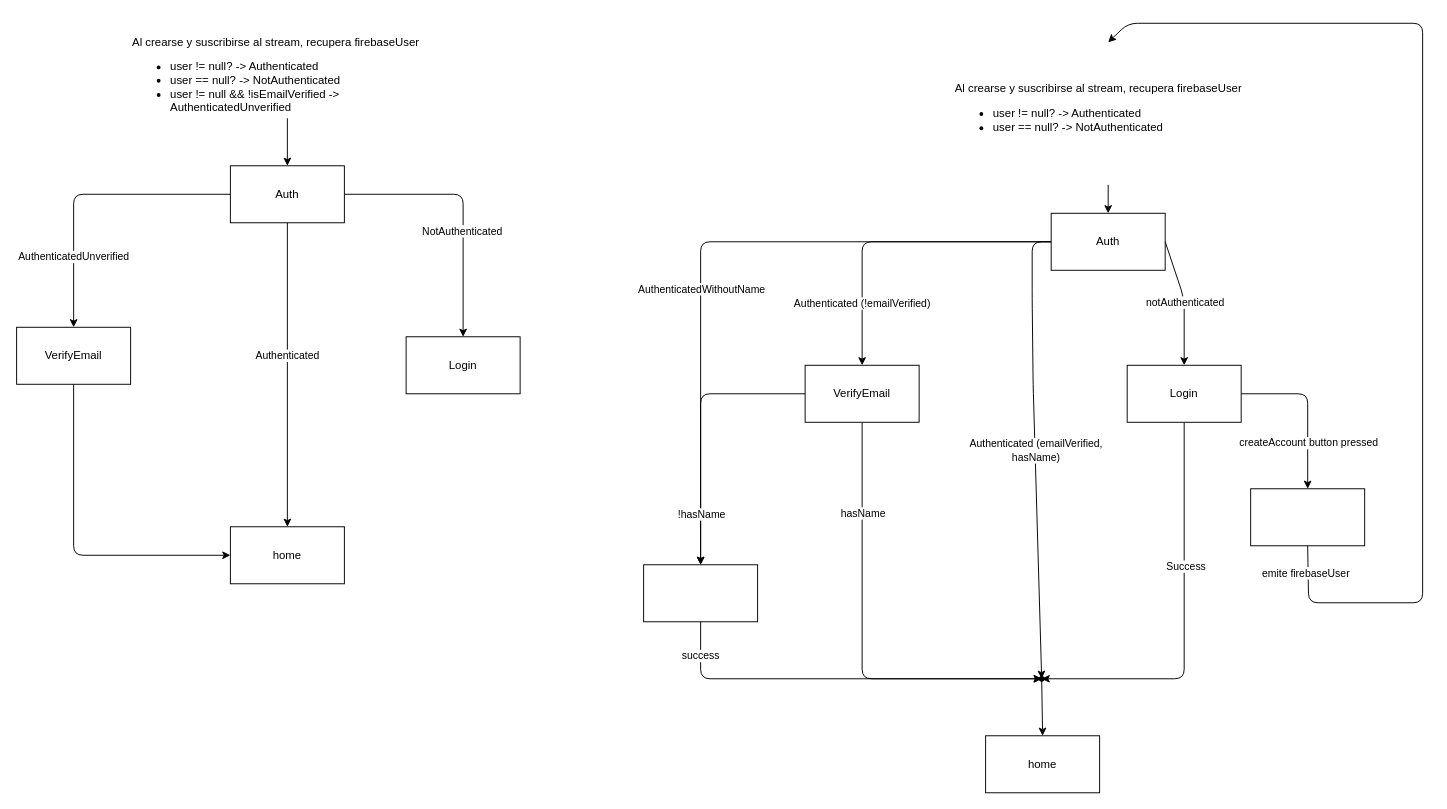
Some shapes in this 1447 by 809 pixel diagram are drawn without their labels. Here are the shapes that lost their labels. From the top down, the centre of each, then its label:
the point at 1307,517: CreateAccount
the point at 700,593: NameTextFields
